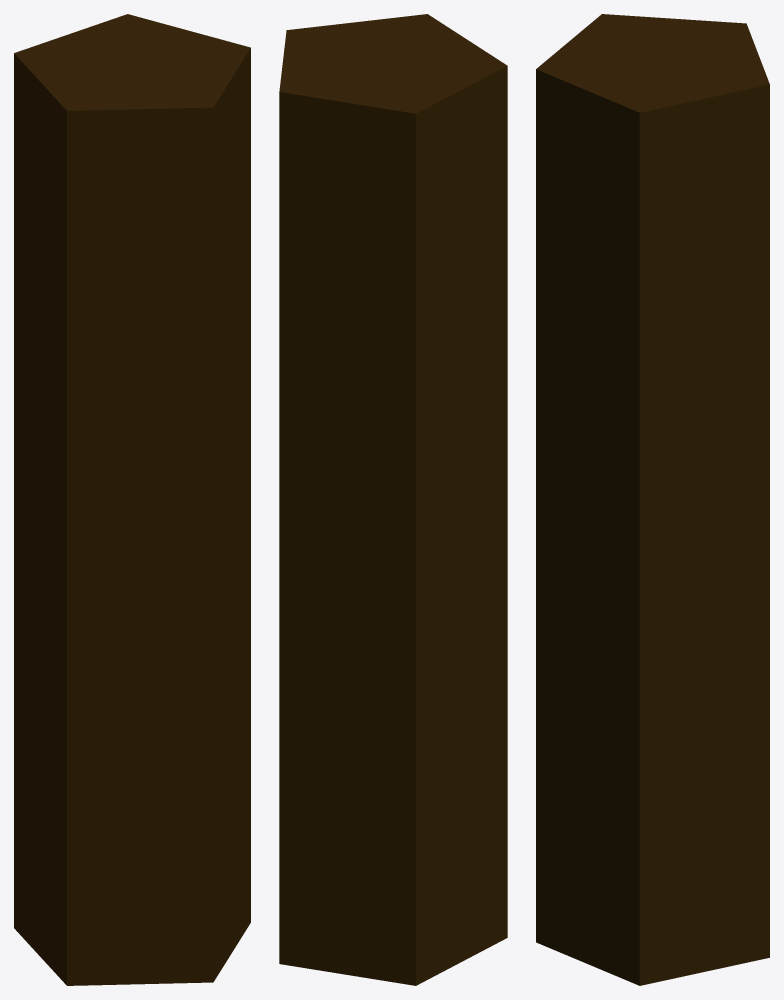
The model's file is Tree_Log.fbx.
The picture shows the model from 3 angles, left to right: view 1: azimuth 30°, elevation 25°; view 2: azimuth 150°, elevation 25°; view 3: azimuth 270°, elevation 25°; orthographic projection.
Parts seen in each view (by area): view 1: Tree_Log; view 2: Tree_Log; view 3: Tree_Log.
Part boxes in pixels (x1,y1,x2,y2): Tree_Log: [14, 14, 250, 985]; Tree_Log: [279, 14, 507, 985]; Tree_Log: [536, 14, 769, 985].
Size of the model in its own units: 54.02 by 223 by 54.07.
